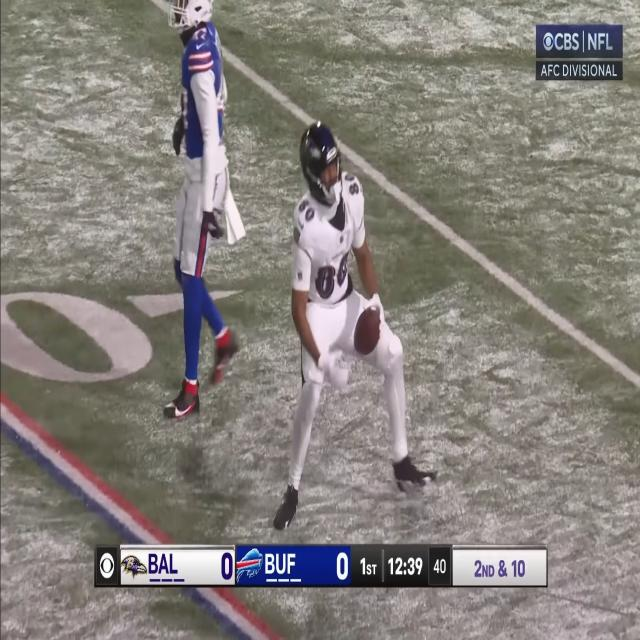Ball: (353, 301, 381, 356)
